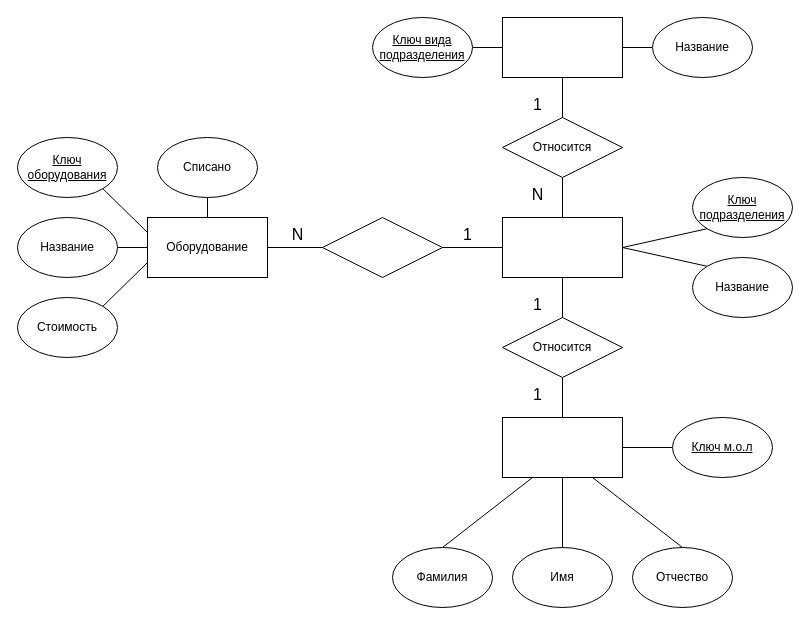
The diagram is 810 pixels wide and 625 high, and some of its shapes have lost their labels. The centre of each missing label's shape, as x and y in pixels:
"Вид подразделения" belongs at (x=562, y=47).
"Имеет" belongs at (x=382, y=247).
"Материально ответственное лицо" belongs at (x=562, y=447).
"Подразделение" belongs at (x=562, y=247).
